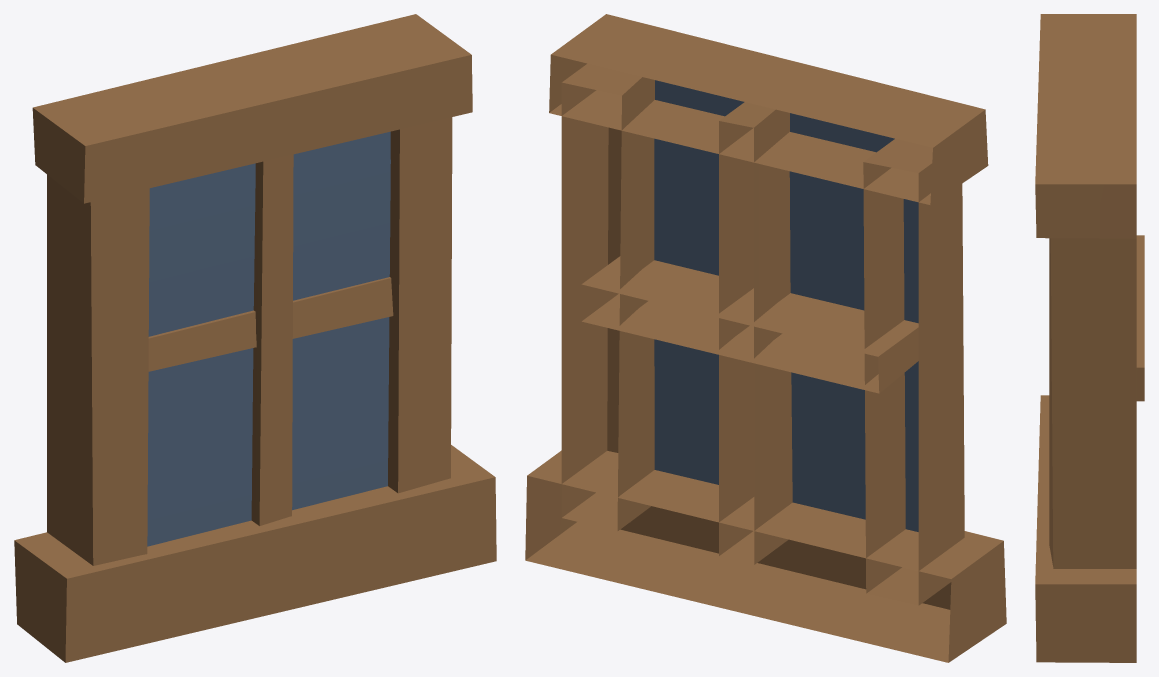
File: House_Window_F.fbx
3 renders of one model, left to right at view 1: azimuth 30°, elevation 25°; view 2: azimuth 150°, elevation 25°; view 3: azimuth 270°, elevation 25°, orthographic. The views are drawn at different scales.
Parts seen in each view (by area): view 1: House_Window_F; view 2: House_Window_F; view 3: House_Window_F.
Boxes of the visible parts, x1,y1,x2,y2 form: House_Window_F: (14,14,496,662); House_Window_F: (525,14,1006,662); House_Window_F: (1035,14,1144,662).
Bounding box in the file's own units: 86.44 × 98.8 × 20.98.
